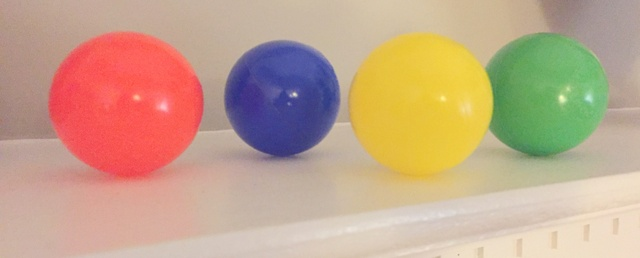Ball: (349, 30, 490, 179)
